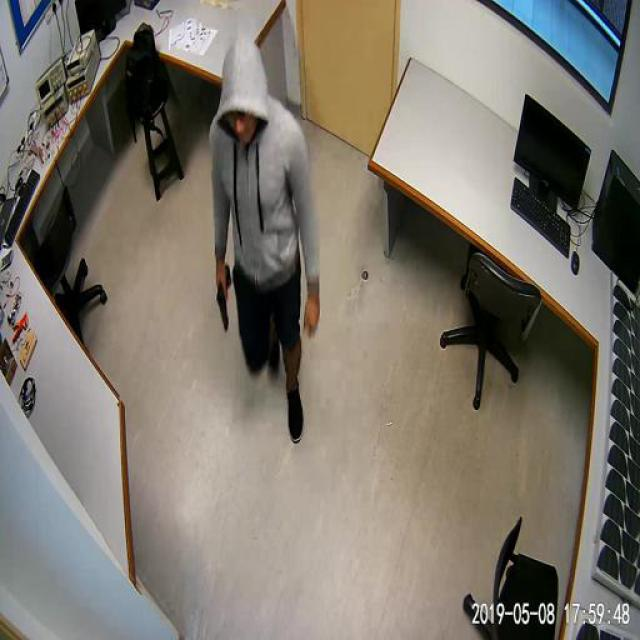Gun: (212, 261, 230, 331)
